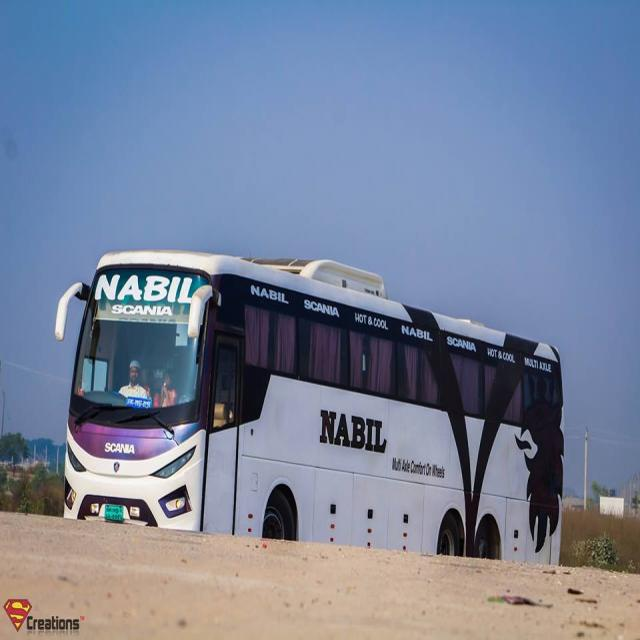bus: (52, 250, 566, 565)
